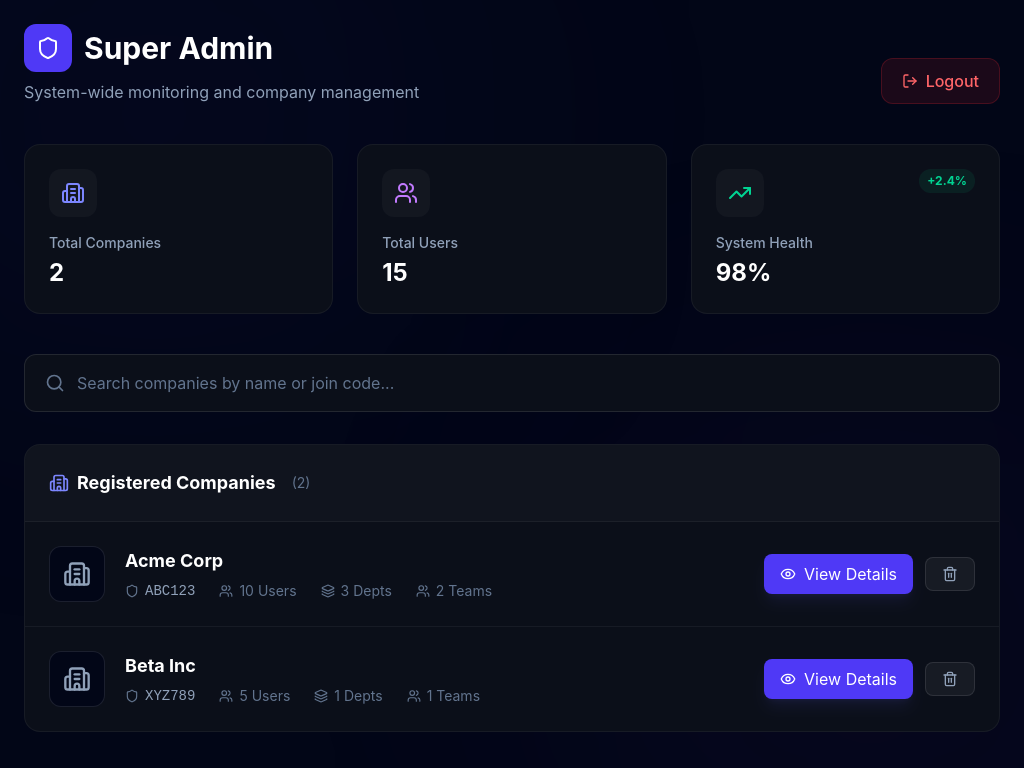
Test: SuperAdminDashboardPage coverage dedicated › filters companies by search term
The image size is (1024, 768).
Expected: the heading "Acme Corp" is shown, [125,547,223,575]
Type "Beta" into the field with placeholder "Search companies by name or join code...". click: (536, 383)
box: [77,359,995,407]
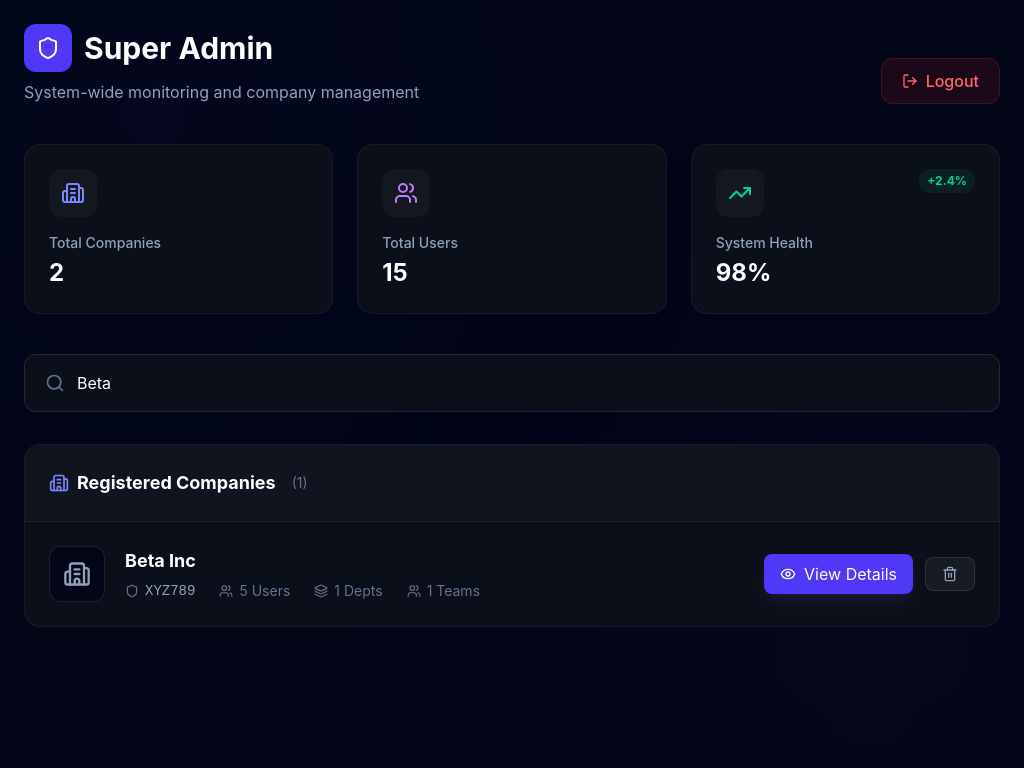
Expected: the heading "Beta Inc" is shown, [125,547,196,575]
Expected: the heading "Acme Corp" is gone
